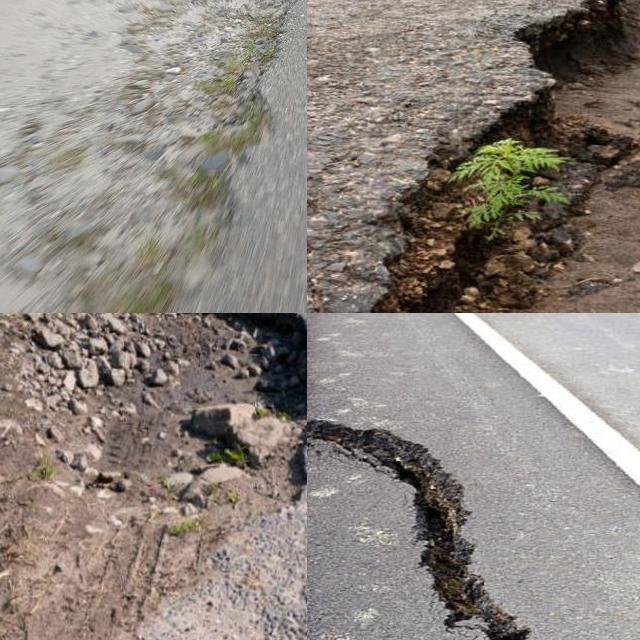Pinggir: (307, 0, 640, 313), (86, 0, 307, 313), (307, 360, 554, 640), (96, 313, 307, 630)
